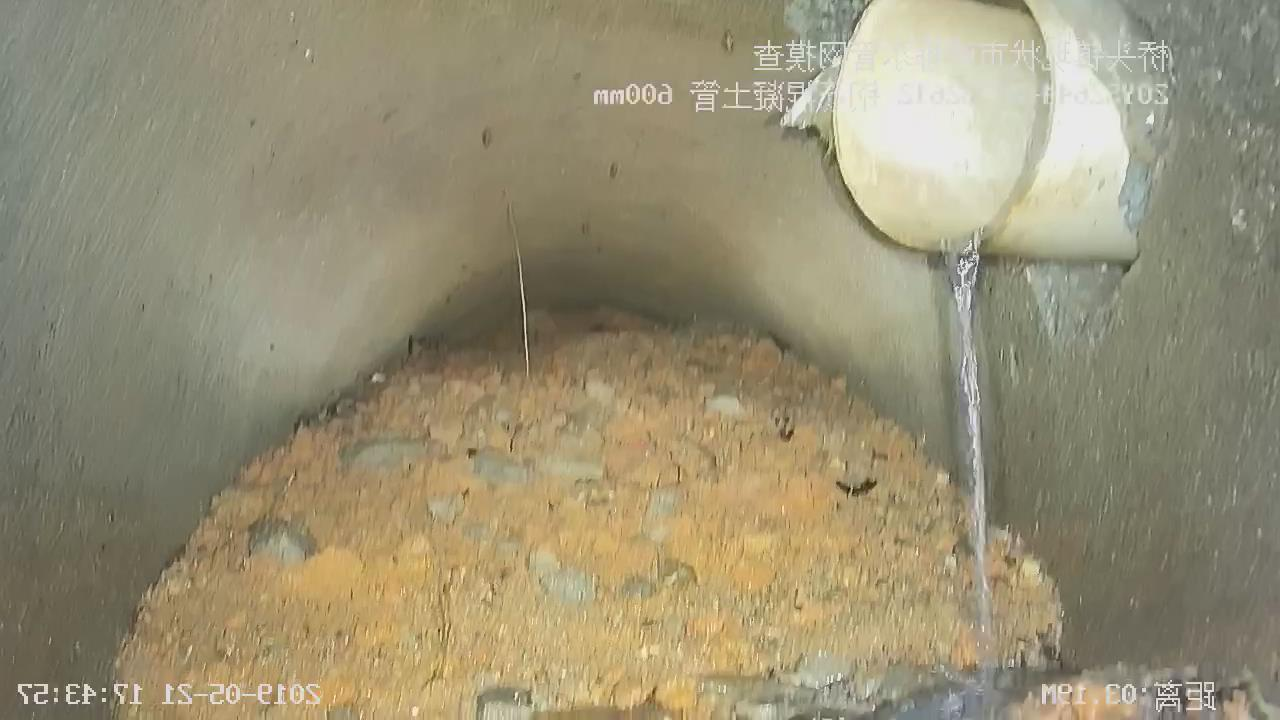CJ: (120, 316, 978, 719)
ZGAJ: (784, 0, 1138, 260)
